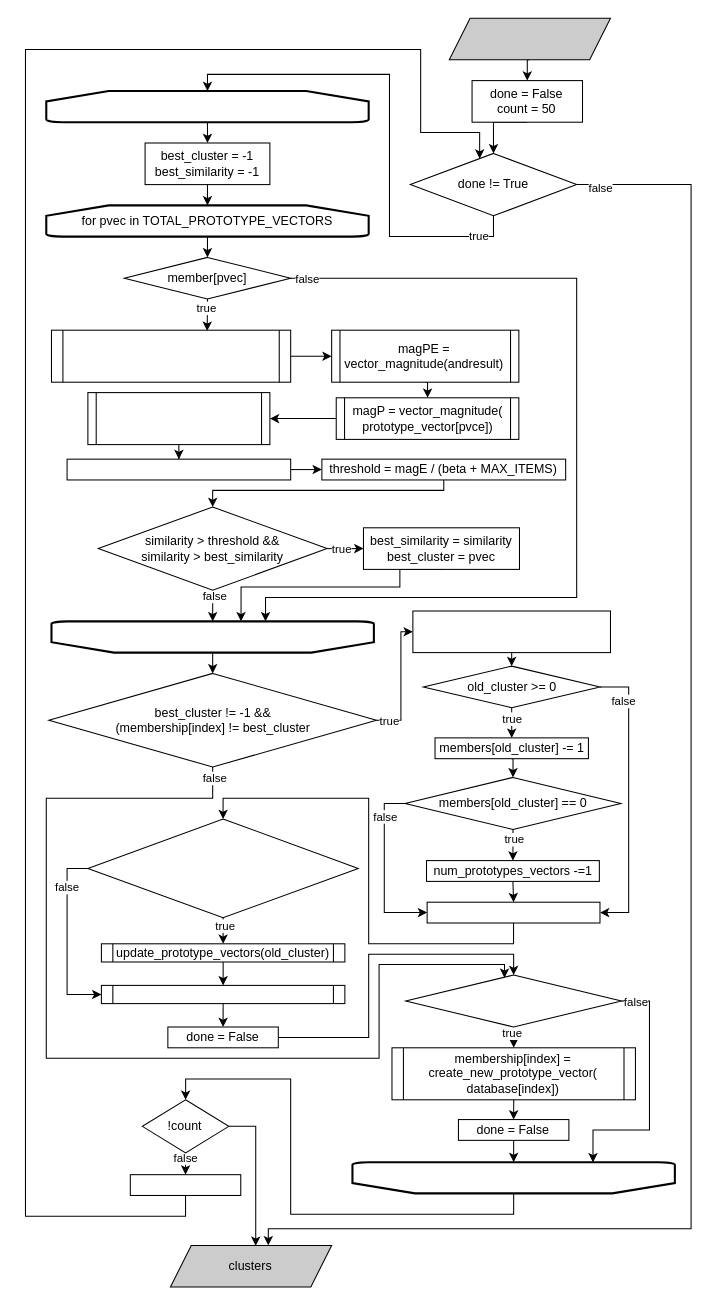
Some shapes in this 718 by 1305 pixel diagram are drawn without their labels. The shapes that lost their labels are listed below. From the top down, each one's box as (x1, y1, x2, y2) in pixels, then its label:
(448, 17, 610, 60): database
(45, 89, 369, 123): for index in MAX_CUSTOMERS
(50, 329, 291, 382): andresult = vector_bitwise_and(database[index], prototype_vector[pvec])
(87, 392, 270, 445): magE = vector_magnitude( database[index])
(66, 458, 291, 480): similarity = magPE / (beta + magP)
(412, 610, 610, 653): old_cluster = membership[index] membership[index] = best_cluster
(87, 818, 358, 918): old_cluster >= 0 && old_cluster < TOTAL_PROTOTYPE_VECTORS
(426, 901, 600, 923): members[best_cluster] += 1
(100, 984, 345, 1004): update_prototype_vectors(best_cluster)
(405, 974, 622, 1027): membership[index] == -1
(129, 1174, 241, 1195): count -= 1
